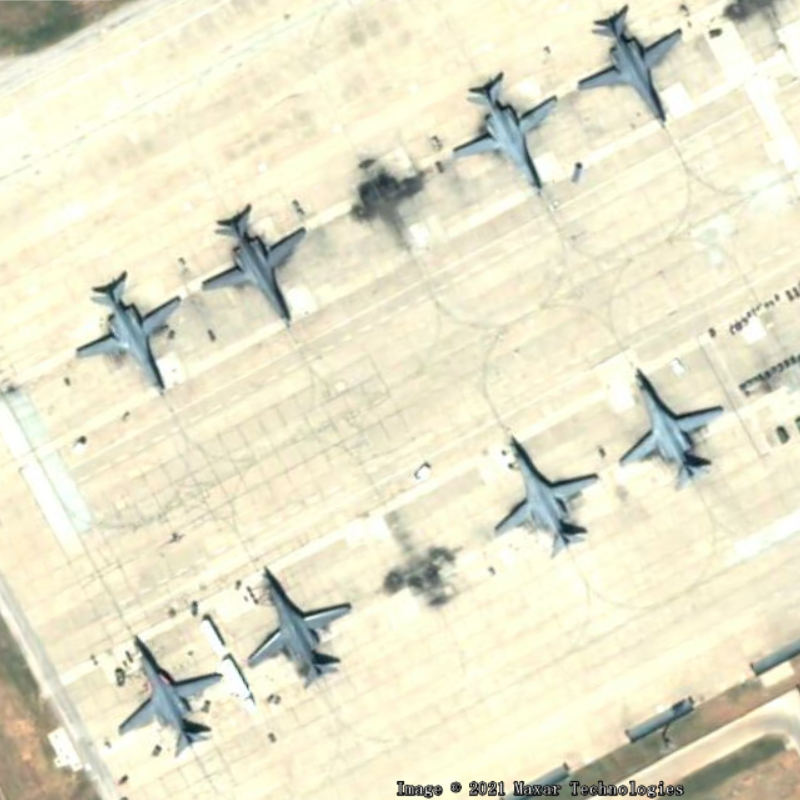A10: (438, 64, 572, 204), (66, 266, 204, 398), (99, 627, 235, 760), (574, 5, 700, 141), (243, 559, 365, 695), (615, 356, 733, 494), (201, 200, 319, 332), (493, 436, 609, 561)
